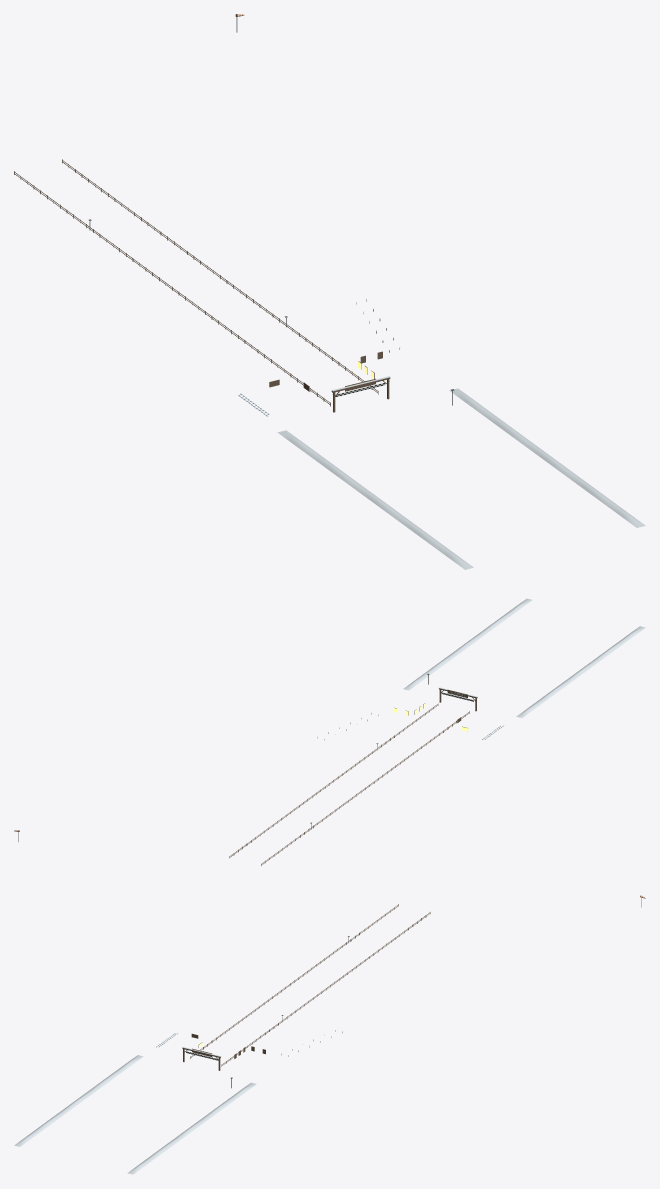
File: summit-finish.glb
The picture shows the model from 3 angles, top to bottom: view 1: azimuth 30°, elevation 25°; view 2: azimuth 150°, elevation 25°; view 3: azimuth 330°, elevation 25°; orthographic projection. The views are drawn at different scales.
Parts seen in each view (by area): view 1: Snow caps, Weathered alpine timber; view 2: Snow caps, Weathered alpine timber; view 3: Snow caps, Weathered alpine timber.
Part boxes in pixels (x1=…): Snow caps: x1=277, y1=376, x2=645, y2=569; Weathered alpine timber: x1=14, y1=159, x2=399, y2=412; Snow caps: x1=403, y1=598, x2=645, y2=717; Weathered alpine timber: x1=229, y1=688, x2=477, y2=865; Snow caps: x1=14, y1=1047, x2=256, y2=1174; Weathered alpine timber: x1=182, y1=904, x2=430, y2=1070.
Size of the model in its own units: 129 by 12.08 by 358.
